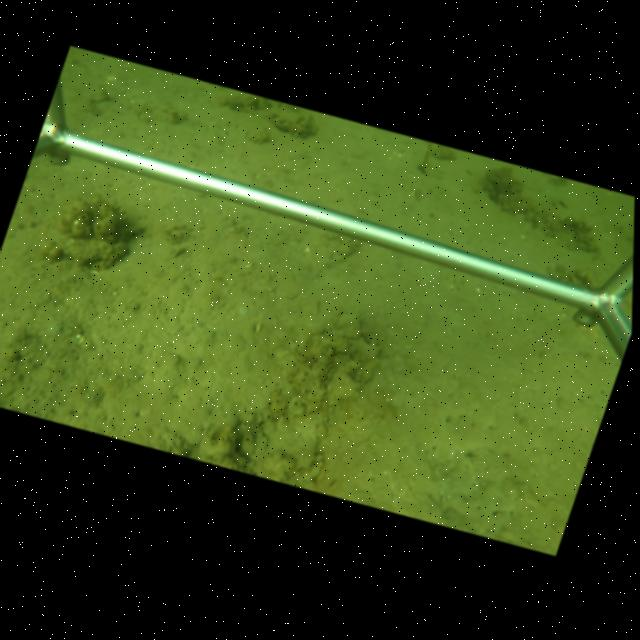Oyster-Closed: (320, 350, 346, 393)
